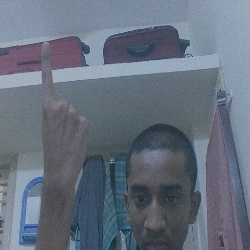hand: (28, 40, 94, 191)
